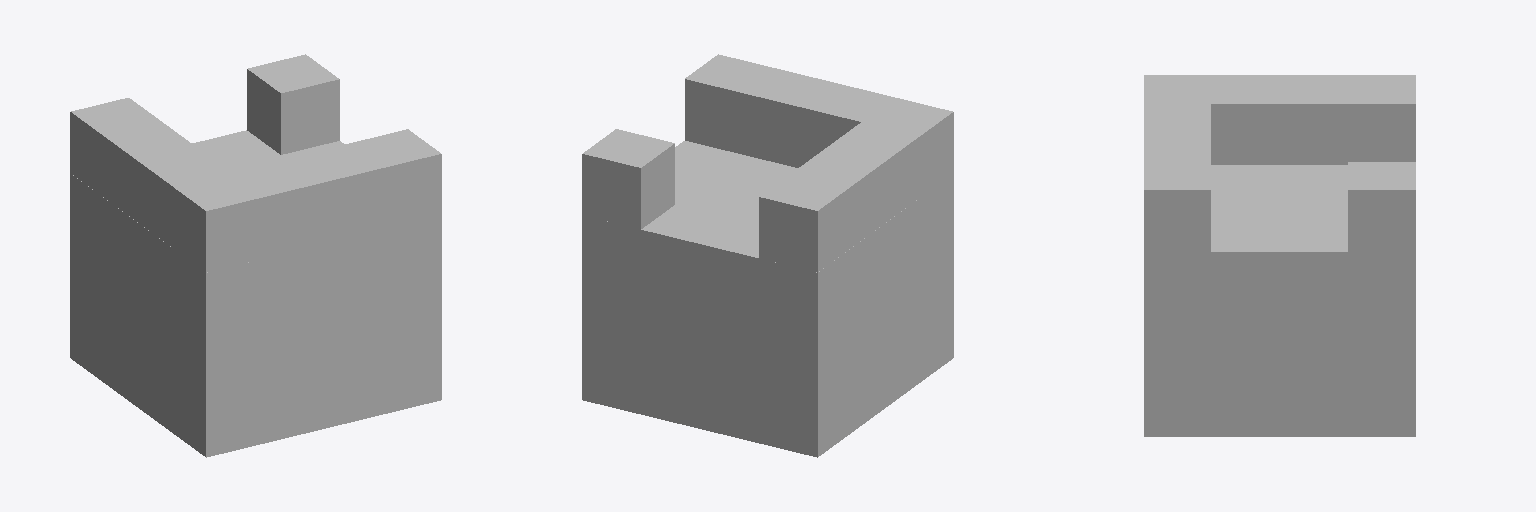
Rendered from pieceL.obj.
The picture shows the model from 3 angles: view 1: azimuth 30°, elevation 25°; view 2: azimuth 150°, elevation 25°; view 3: azimuth 270°, elevation 25°; orthographic projection.
Parts seen in each view (by area): view 1: Cube.001_Cube.003, Cube_Cube.005; view 2: Cube.001_Cube.003, Cube_Cube.005; view 3: Cube.001_Cube.003, Cube_Cube.005.
Boxes of the visible parts, box(x1,y1,x2,y2) form: Cube.001_Cube.003: box(70, 130, 441, 457); Cube_Cube.005: box(70, 54, 441, 272); Cube.001_Cube.003: box(582, 141, 953, 457); Cube_Cube.005: box(582, 54, 953, 272); Cube.001_Cube.003: box(1144, 165, 1415, 436); Cube_Cube.005: box(1144, 75, 1415, 251).
Size of the model in its own units: 2 by 2 by 2.